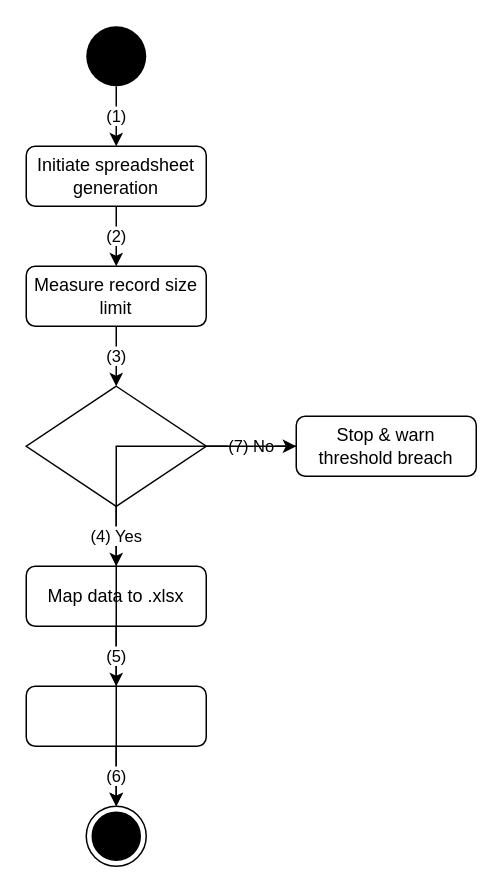
Some shapes in this 503 by 893 pixel diagram are drawn without their labels. Here are the shapes that lost their labels. From the top down, the box of each, then its label:
(25, 385, 206, 506): Within limit?
(25, 685, 206, 746): Initialize download stream
